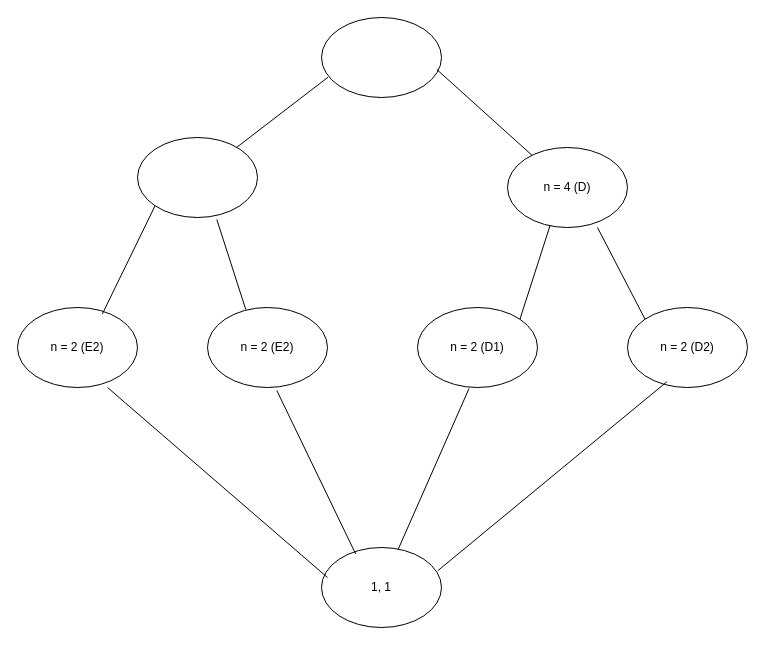
Image size: 765x645. Some labels were removed from this diagram. The shapes that lost their labels are listed below. From the top down, each one's centre as x and y in pixels, then its label:
the point at 381,57: n = 8
the point at 197,177: n = 4 (E)
